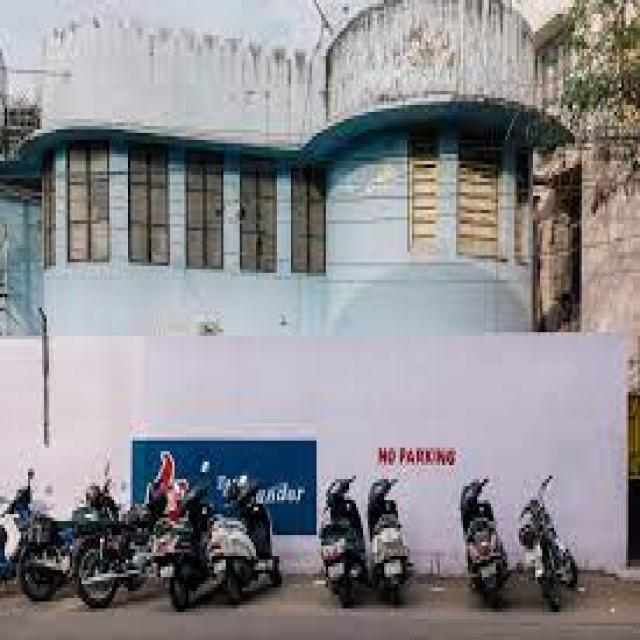No Parking: (1, 446, 584, 624)
